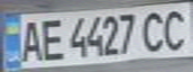2: (103, 11, 124, 56)
4: (63, 12, 87, 59), (84, 12, 106, 57)
7: (118, 10, 142, 55)
A: (15, 17, 45, 63)
C: (160, 6, 193, 53), (139, 8, 172, 54)
E: (36, 16, 66, 62)
